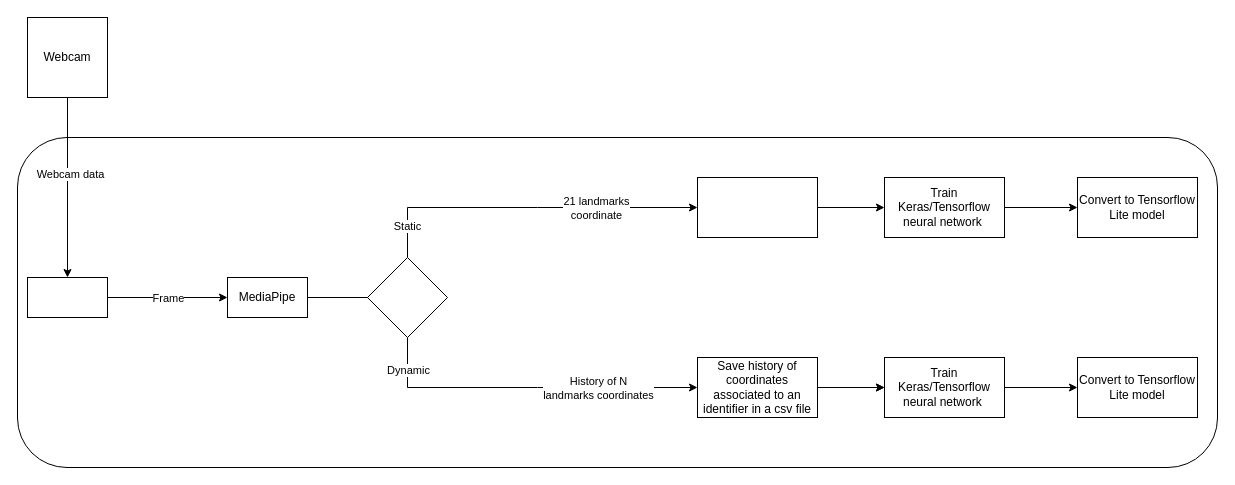
Image size: 1235x485. Some labels were removed from this diagram. The box of each missing label's shape, as (x1, y1, x2, y2) in pixels:
OpenCV: (26, 276, 108, 318)
Save coordinates associated to an identifier in a csv file: (696, 176, 818, 238)
Static or dynamic: (366, 256, 448, 338)
